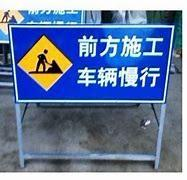sign: (8, 25, 167, 104)
